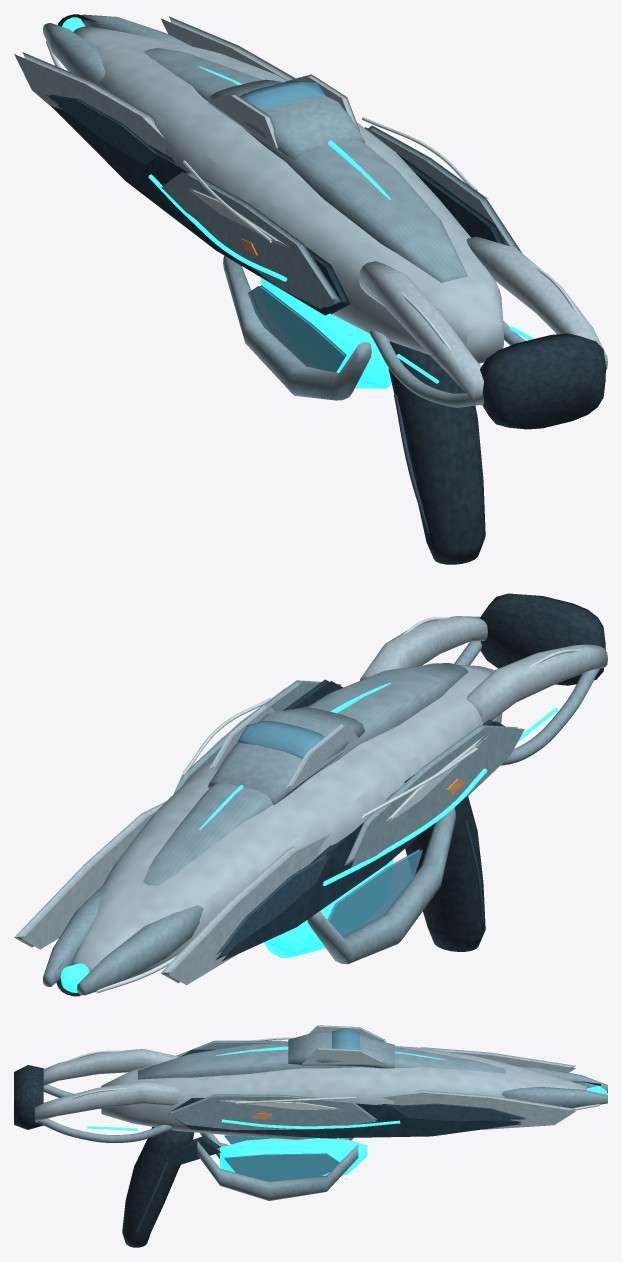
The model's file is aether-s9-vesper-glacier-balanced.glb.
The picture shows the model from 3 angles, top to bottom: view 1: azimuth 30°, elevation 25°; view 2: azimuth 150°, elevation 25°; view 3: azimuth 270°, elevation 25°; orthographic projection. The views are drawn at different scales.
Parts seen in each view (by area): view 1: 01 / VESPER sculpted ceramic monocoque, 02 / continuous titanium flight crest, 09 / curved carbon aesthetic grip, 07 / round rear termination, LEFT / floating swept shoulder blade, 10 / flush integrated vision crown, LEFT / crescent cradle underneath prism, LEFT / continuous rear arc, RIGHT / continuous rear arc, LEFT / recessed long flank groove, LEFT / front tapered scythe fin, LEFT / transparent capsule cheek (+12 smaller); view 2: 01 / VESPER sculpted ceramic monocoque, 02 / continuous titanium flight crest, LEFT / floating swept shoulder blade, 10 / flush integrated vision crown, 07 / round rear termination, 09 / curved carbon aesthetic grip, LEFT / crescent cradle underneath prism, LEFT / front tapered scythe fin, LEFT / continuous rear arc, LEFT / recessed long flank groove, RIGHT / front tapered scythe fin, LEFT / split-petal swept prow (+14 smaller); view 3: 01 / VESPER sculpted ceramic monocoque, 02 / continuous titanium flight crest, RIGHT / floating swept shoulder blade, 09 / curved carbon aesthetic grip, RIGHT / recessed long flank groove, RIGHT / continuous rear arc, RIGHT / front tapered scythe fin, RIGHT / crescent cradle underneath prism, 08 / levitating cyan luminous capsule, RIGHT / transparent capsule cheek, 10 / flush integrated vision crown, LEFT / continuous rear arc (+14 smaller).
Part boxes in pixels (x1=…): 01 / VESPER sculpted ceramic monocoque: x1=73, y1=26, x2=504, y2=363; 02 / continuous titanium flight crest: x1=143, y1=48, x2=468, y2=282; 09 / curved carbon aesthetic grip: x1=388, y1=341, x2=485, y2=564; 07 / round rear termination: x1=480, y1=333, x2=605, y2=429; LEFT / floating swept shoulder blade: x1=161, y1=170, x2=341, y2=308; 10 / flush integrated vision crown: x1=208, y1=79, x2=364, y2=160; LEFT / crescent cradle underneath prism: x1=223, y1=255, x2=371, y2=400; LEFT / continuous rear arc: x1=359, y1=261, x2=483, y2=404; RIGHT / continuous rear arc: x1=466, y1=236, x2=607, y2=369; LEFT / recessed long flank groove: x1=51, y1=104, x2=350, y2=315; LEFT / front tapered scythe fin: x1=14, y1=52, x2=174, y2=153; LEFT / transparent capsule cheek: x1=248, y1=285, x2=346, y2=372; 01 / VESPER sculpted ceramic monocoque: x1=71, y1=663, x2=502, y2=978; 02 / continuous titanium flight crest: x1=143, y1=663, x2=467, y2=885; LEFT / floating swept shoulder blade: x1=344, y1=725, x2=524, y2=867; 10 / flush integrated vision crown: x1=208, y1=707, x2=364, y2=804; 07 / round rear termination: x1=480, y1=593, x2=605, y2=685; 09 / curved carbon aesthetic grip: x1=405, y1=796, x2=485, y2=951; LEFT / crescent cradle underneath prism: x1=307, y1=808, x2=455, y2=964; LEFT / front tapered scythe fin: x1=160, y1=835, x2=329, y2=985; LEFT / continuous rear arc: x1=466, y1=644, x2=607, y2=723; LEFT / recessed long flank groove: x1=216, y1=719, x2=505, y2=961; RIGHT / front tapered scythe fin: x1=14, y1=801, x2=166, y2=949; LEFT / split-petal swept prow: x1=77, y1=905, x2=203, y2=995; 01 / VESPER sculpted ceramic monocoque: x1=101, y1=1046, x2=586, y2=1139; 02 / continuous titanium flight crest: x1=138, y1=1042, x2=505, y2=1079; RIGHT / floating swept shoulder blade: x1=168, y1=1094, x2=376, y2=1129; 09 / curved carbon aesthetic grip: x1=122, y1=1127, x2=194, y2=1247; RIGHT / recessed long flank groove: x1=171, y1=1098, x2=521, y2=1138; RIGHT / continuous rear arc: x1=35, y1=1081, x2=178, y2=1121; RIGHT / front tapered scythe fin: x1=382, y1=1090, x2=575, y2=1129; RIGHT / crescent cradle underneath prism: x1=197, y1=1141, x2=358, y2=1200; 08 / levitating cyan luminous capsule: x1=220, y1=1138, x2=366, y2=1175; RIGHT / transparent capsule cheek: x1=224, y1=1153, x2=339, y2=1181; 10 / flush integrated vision crown: x1=288, y1=1030, x2=394, y2=1068; LEFT / continuous rear arc: x1=43, y1=1049, x2=178, y2=1085.
Size of the model in its own units: 0.862 by 1.3 by 3.4.
Materials: 9 (9 with a texture image).
